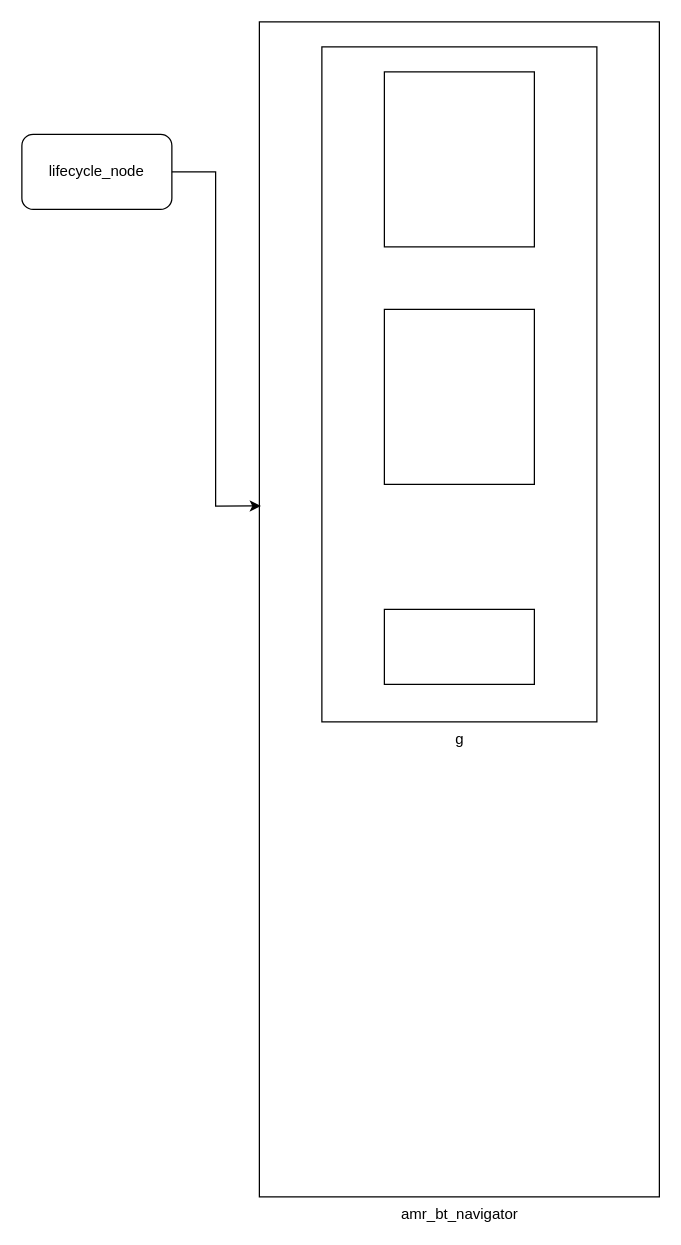
Image size: 681x1245. Some labels were removed from this diagram. Here are the shapes that lost their labels. From the top down, the box of each, then its label:
(383, 71, 534, 247): 基类navigator 通过BtActionServer来桥接action与BT
(383, 308, 534, 484): amr_nav_mode_a
